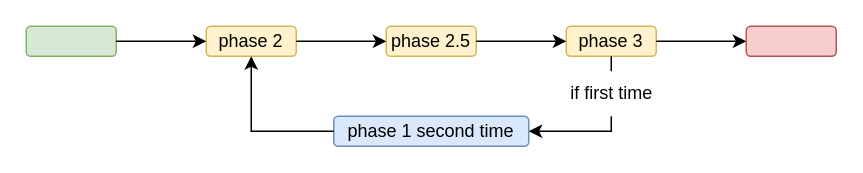
The diagram is 863 pixels wide and 173 high, and some of its shapes have lost their labels. The shapes that lost their labels are listed below. From the top down, each one's centre as x and y in pixels, then its label:
(70,40): phase 1
(790,40): phase 4
